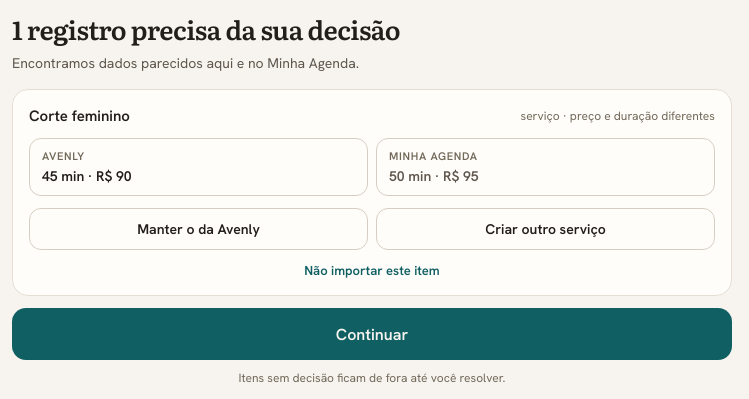
it: um cartão por vez › decidir o último deixa todos decididos, sem cartão aberto
The image size is (749, 399).
Click the button "Criar outro serviço": (546, 229) [376,208,715,250]
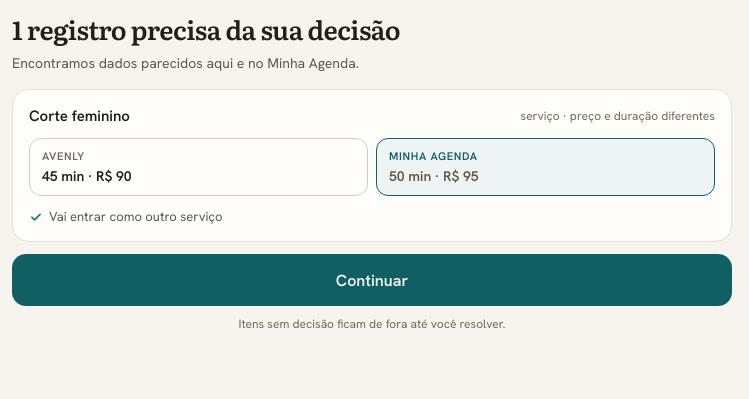
Expected: the button "Continuar" is enabled, [12,254,732,306]
Result: the message reads "Vai entrar como outro serviço" at [49,208,223,225]
Result: the button "Manter o da Avenly" is gone
